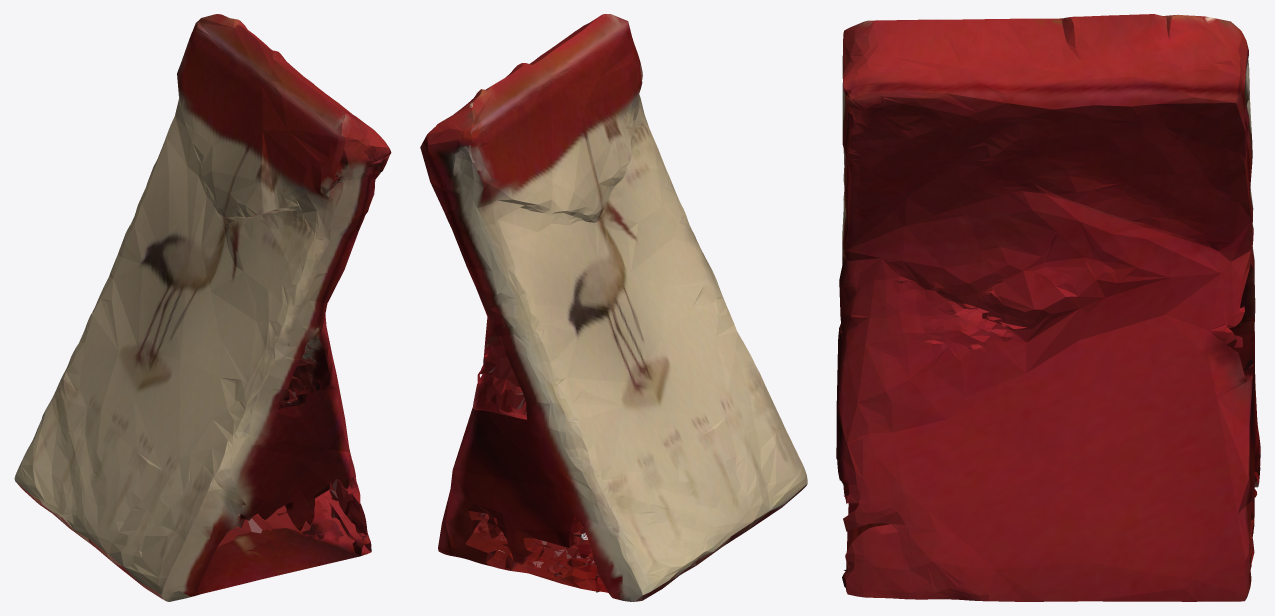
File: model_New Qlone_lp_20210616_132052916.obj
The picture shows the model from 3 angles, left to right: view 1: azimuth 30°, elevation 25°; view 2: azimuth 150°, elevation 25°; view 3: azimuth 270°, elevation 25°; orthographic projection. The views are drawn at different scales.
Bounding box in the file's own units: 36.04 × 64.49 × 43.01.
Materials: 1 (1 with a texture image).
